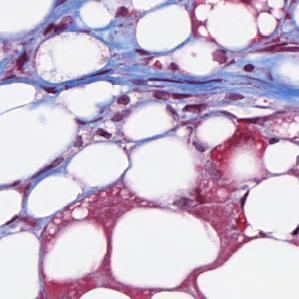inflammation: (108, 89, 134, 126), (151, 86, 194, 107)
